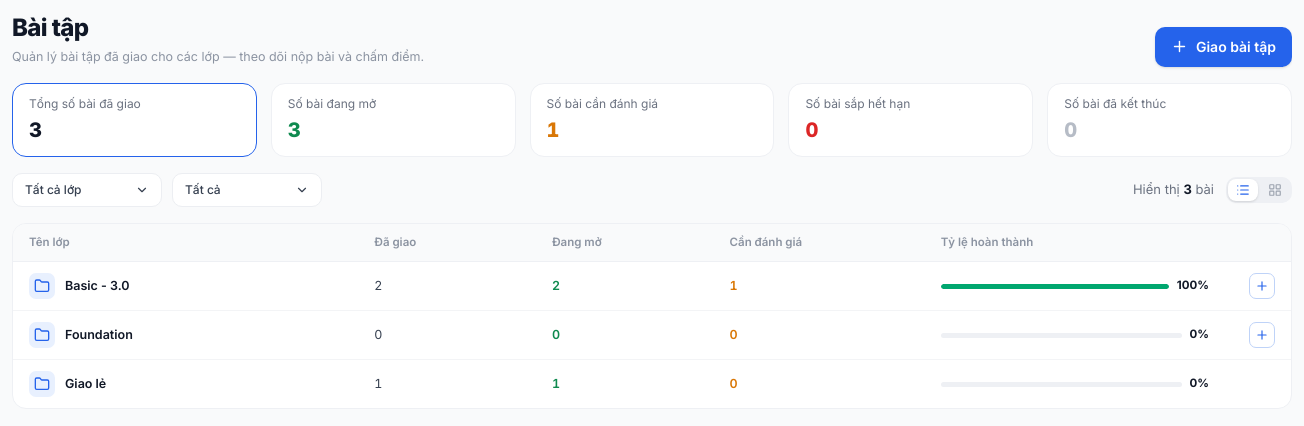
it: AssignmentsPage › drills into a class and back out again
This screenshot has width=1304, height=426.
Click the button with test id "class-folder-row-c1" at (97, 285), box [13,262,1291,311]
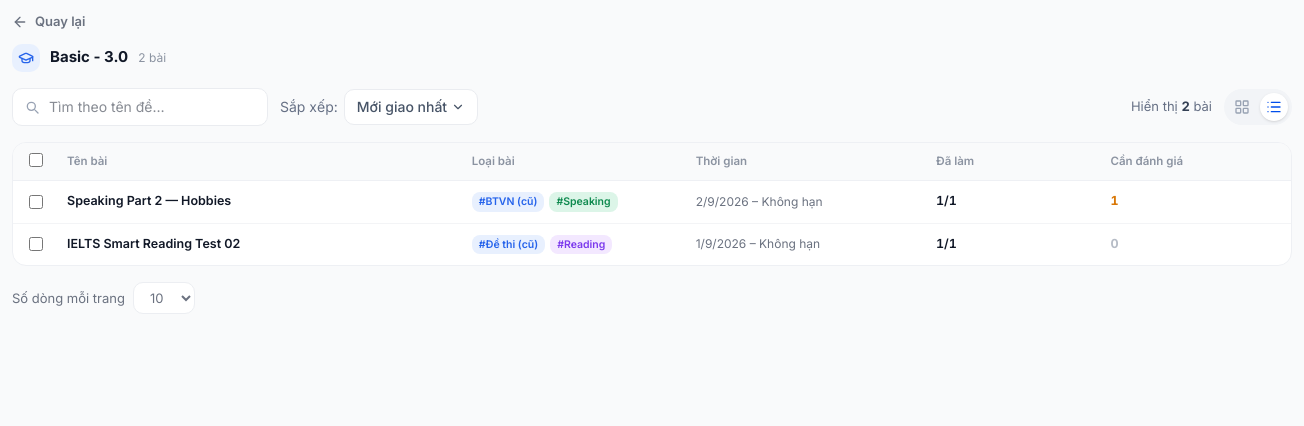
Expected: the element with test id "assignments-group-title" shows "Basic - 3.0", [50,47,128,66]
Expected: the element with test id "assignments-group-title" shows "2 bài", [12,44,166,72]
Expected: the text "IELTS Smart Reading Test 02" is shown, [67,236,240,251]
Click the button with test id "assignments-back" at (49, 22), box [12,12,86,32]
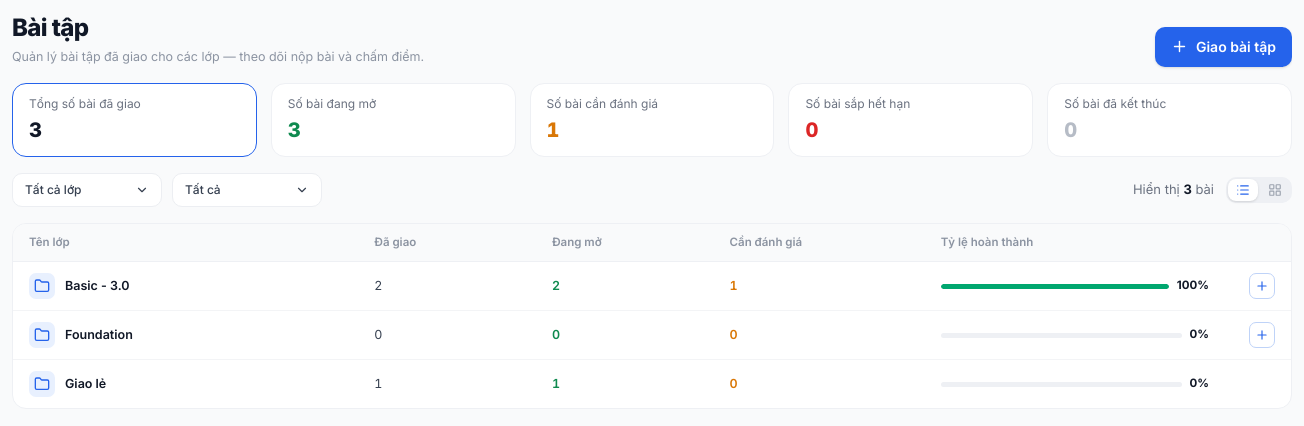
Expected: the button with test id "class-folder-row-c1" is shown, [13,262,1291,311]
Expected: the element with test id "assignments-group-title" is gone
